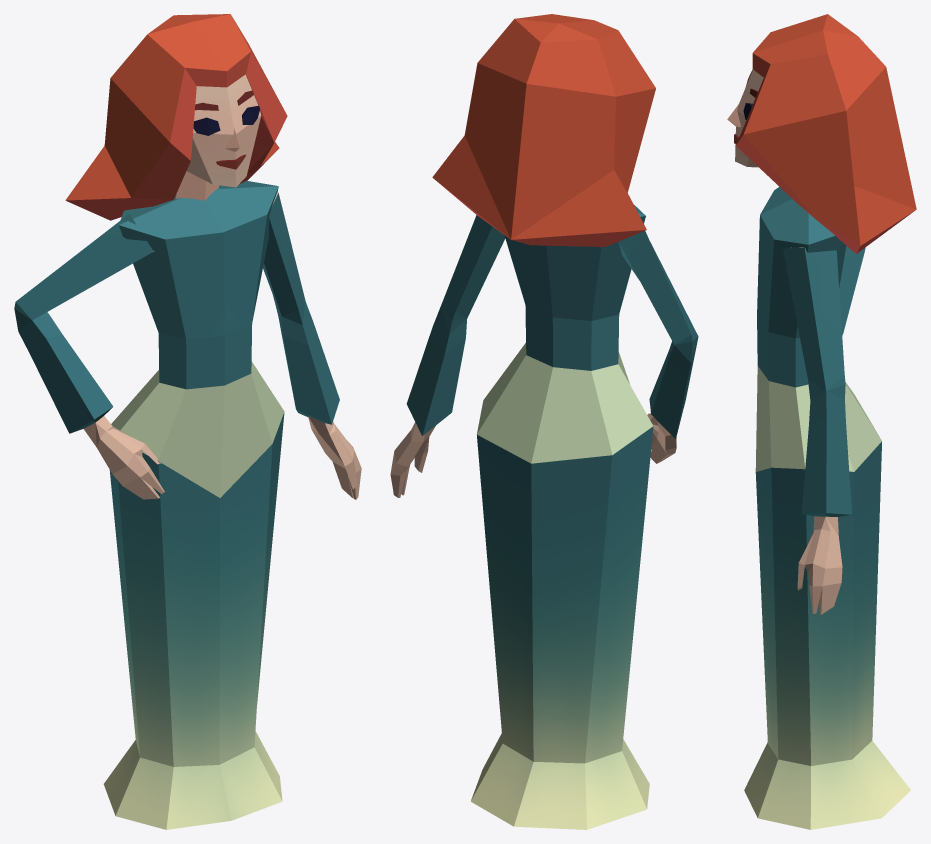
Rendered from guest_fem_4_-_medieval_fantasy_challenge.glb.
3 renders of one model, left to right at view 1: azimuth 30°, elevation 25°; view 2: azimuth 150°, elevation 25°; view 3: azimuth 270°, elevation 25°, orthographic.
Parts seen in each view (by area): view 1: Object_2; view 2: Object_2; view 3: Object_2.
Boxes of the visible parts, x1,y1,x2,y2 form: Object_2: (14,14,361,829); Object_2: (390,14,698,829); Object_2: (727,14,916,829).
Bounding box in the file's own units: 0.6919 × 1.59 × 0.3588.
1 material, 1 textured.
